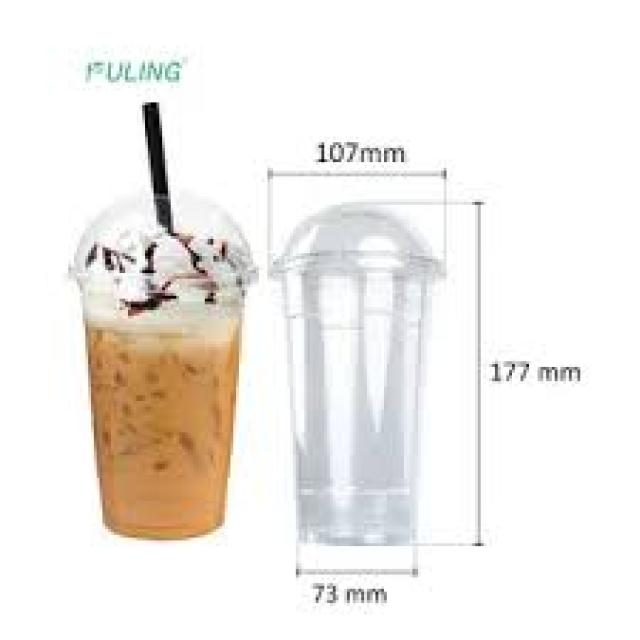bottle: (274, 235, 436, 544), (87, 317, 240, 538)
